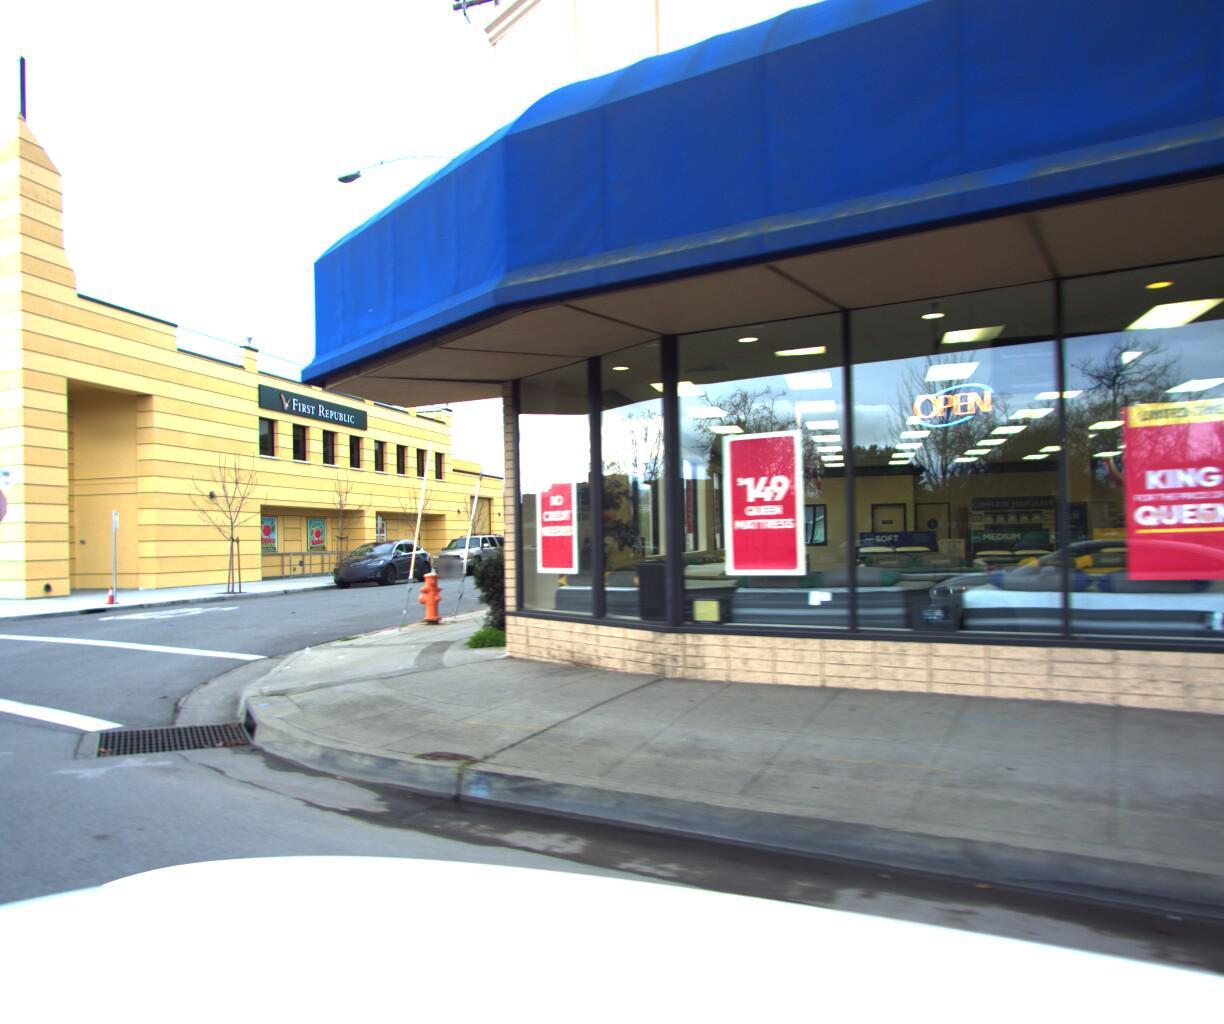car: (320, 533, 438, 585), (424, 529, 515, 573)
